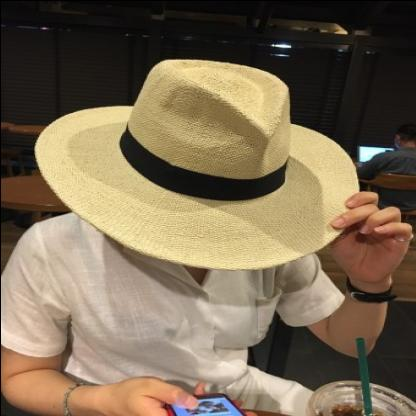hat: (30, 55, 370, 274)
